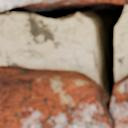brick: (0, 0, 82, 9), (90, 0, 127, 3)
broken_brick: (0, 64, 109, 127), (114, 73, 127, 127)
crack: (0, 0, 125, 127)
